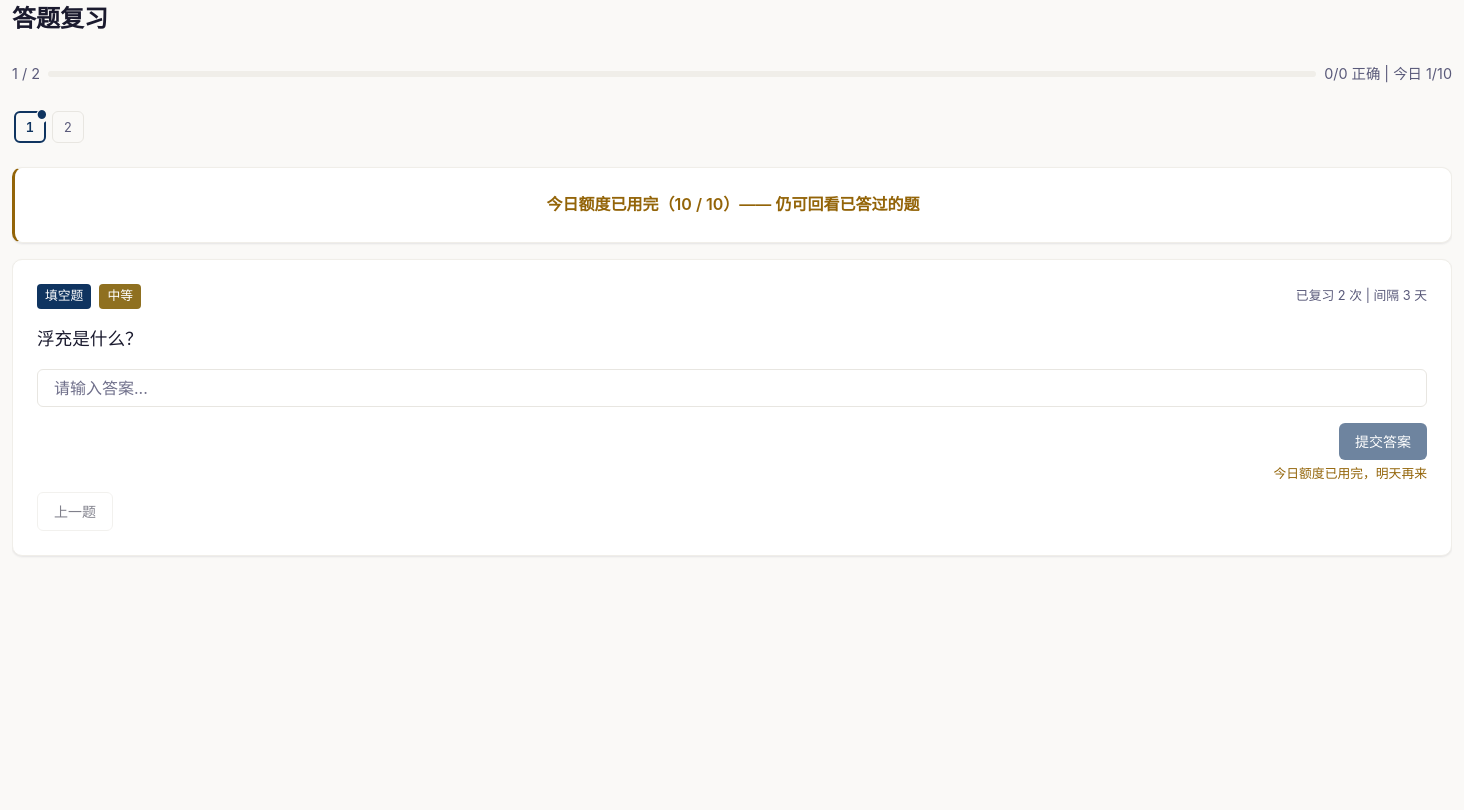
Test: 每日额度（想法 8 阶段 4 + B 方案） › ★ 额度已满时仍能前后翻（配额只挡提交，不挡看与翻）
Expected: the text "浮充是什么？" is shown, [37,328,143,348]
# 跳到第 2 题：允许
What coordinates should you click on to do the following:
click the button named "跳到第 2 题，未作答"
I would click on:
 (68, 127)
Its box is [52,111,84,143].
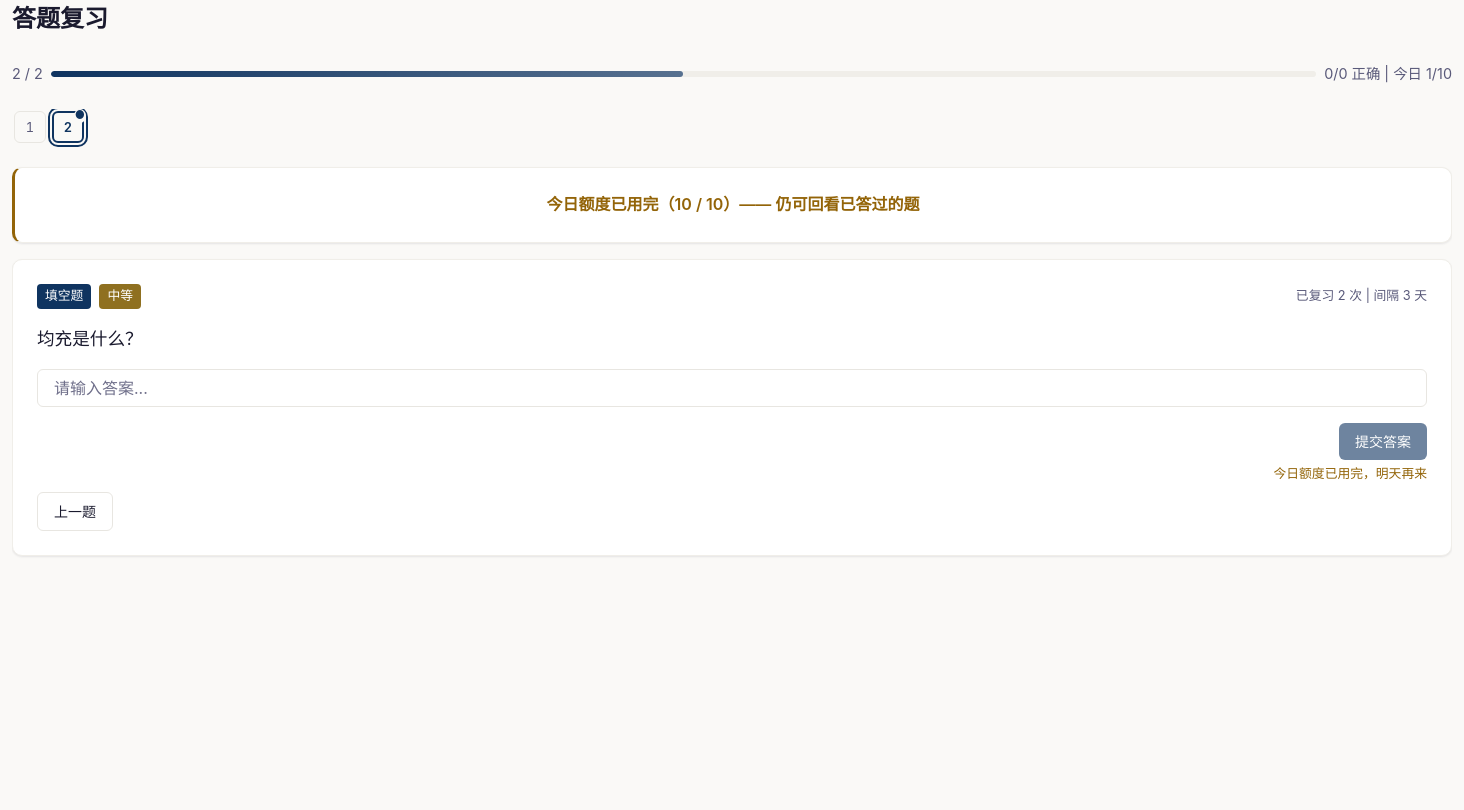
Expected: the text "均充是什么？" is shown, [37,328,143,348]
Expected: the button "上一题" is enabled, [37,492,113,531]
